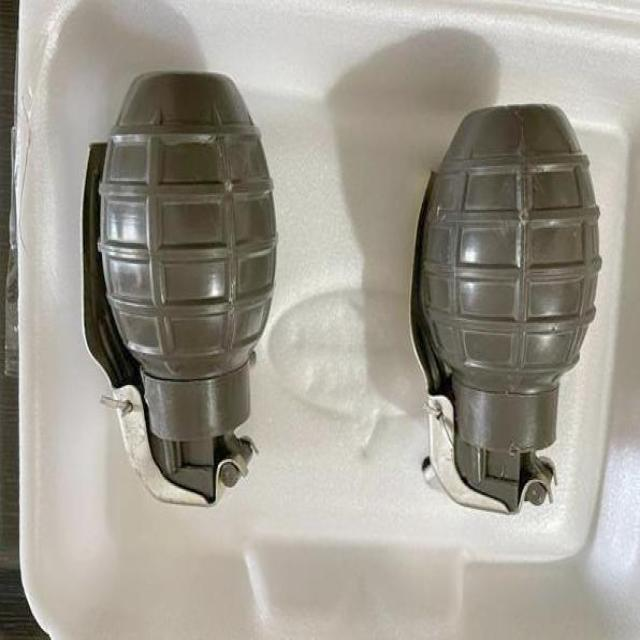grenade: (84, 72, 280, 507), (410, 104, 604, 513)
